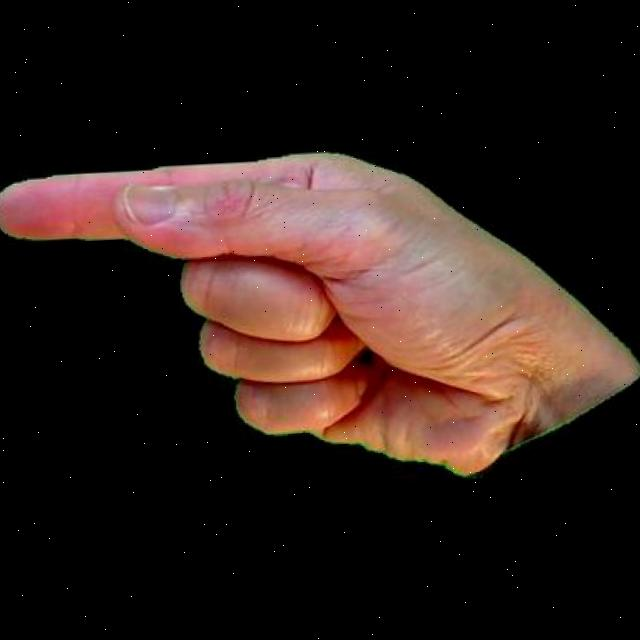g: (0, 108, 640, 501)
